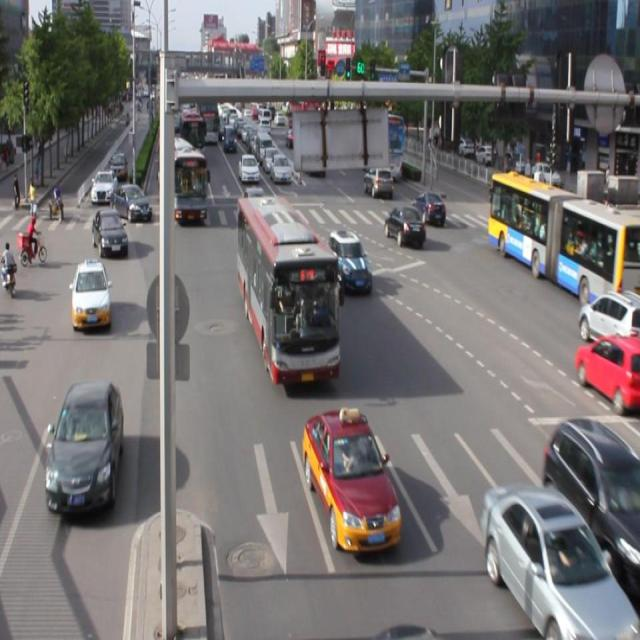car: (480, 482, 640, 639), (541, 416, 640, 589), (303, 408, 401, 548), (45, 378, 126, 513), (573, 333, 640, 415), (576, 288, 640, 352), (326, 228, 372, 292), (72, 260, 111, 329), (383, 203, 426, 245)
van: (488, 172, 640, 308), (237, 198, 340, 382)
